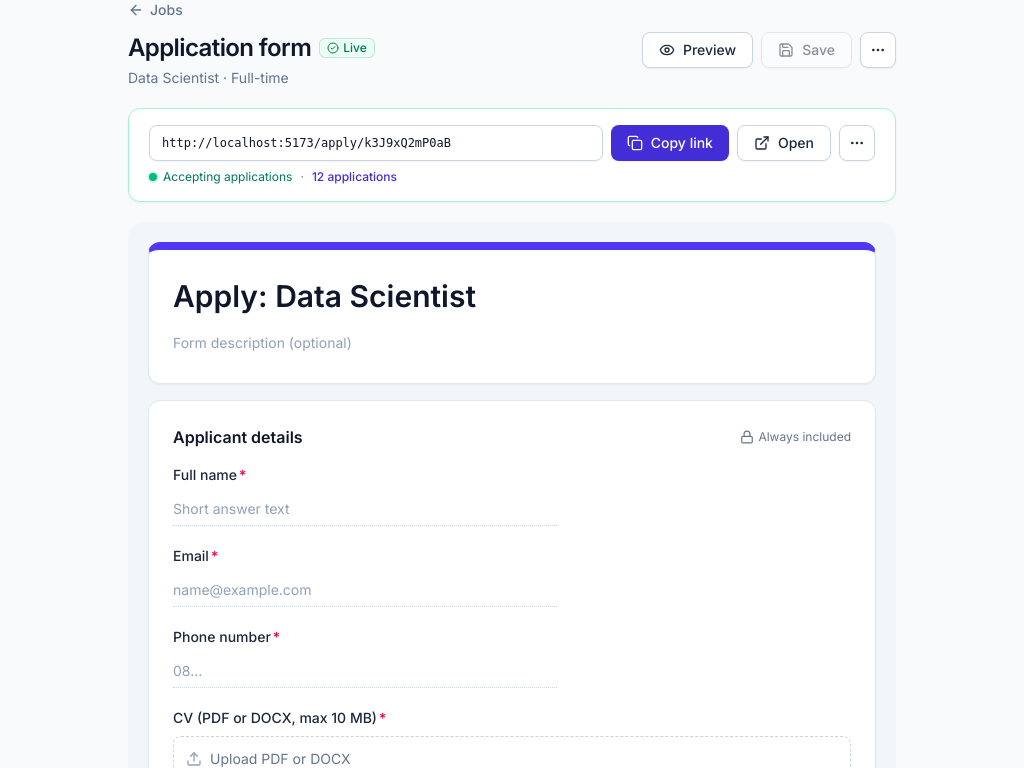
Test case: FormBuilderPage › opens the preview in a dialog
The width and height of the screenshot is (1024, 768).
Click the button "Preview": [698, 50] box [642, 32, 753, 68]
(page scrolled)
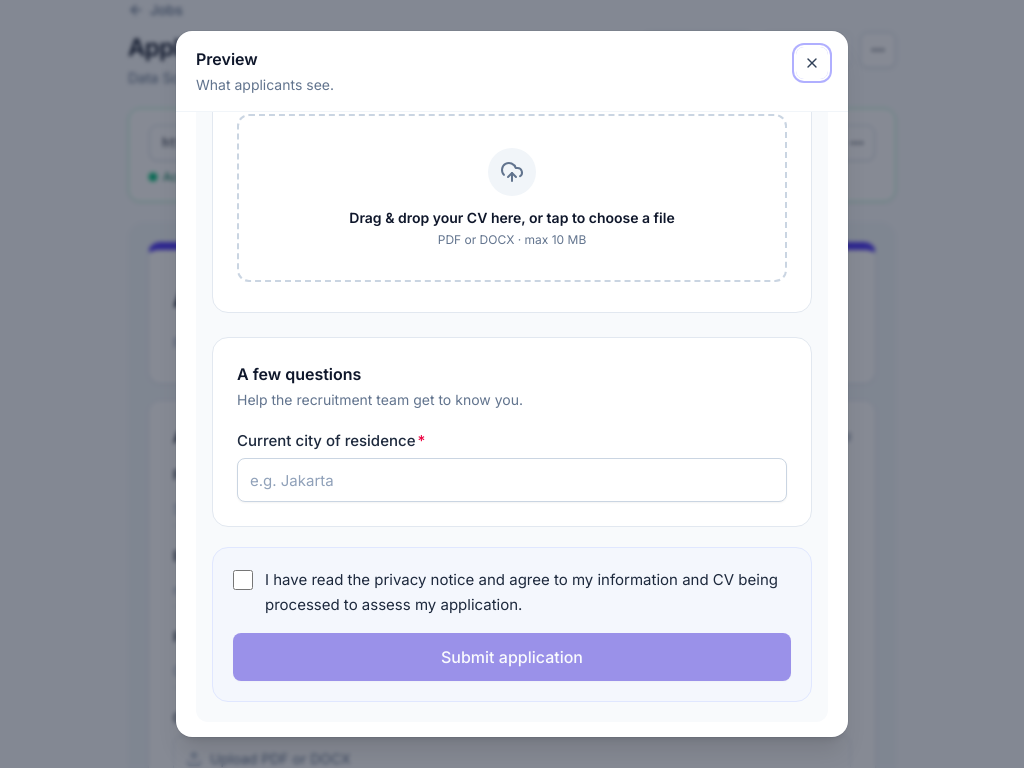
Result: the text "Current city of residence" is shown at [237, 431, 416, 450]
